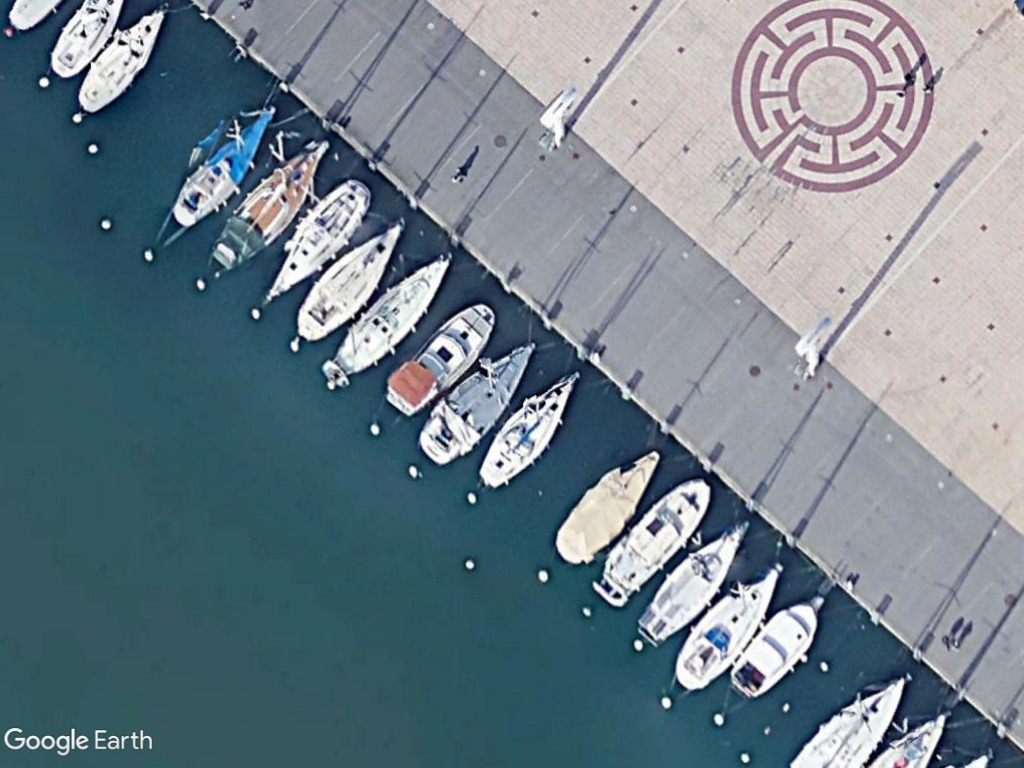boat: (329, 251, 452, 384), (211, 137, 330, 274), (416, 336, 537, 467), (632, 517, 751, 647), (671, 558, 783, 696), (292, 217, 408, 348), (261, 175, 372, 305), (550, 445, 661, 571), (475, 368, 585, 491), (168, 108, 276, 232), (385, 301, 496, 418), (606, 477, 712, 595), (77, 5, 169, 114), (729, 598, 821, 699)
